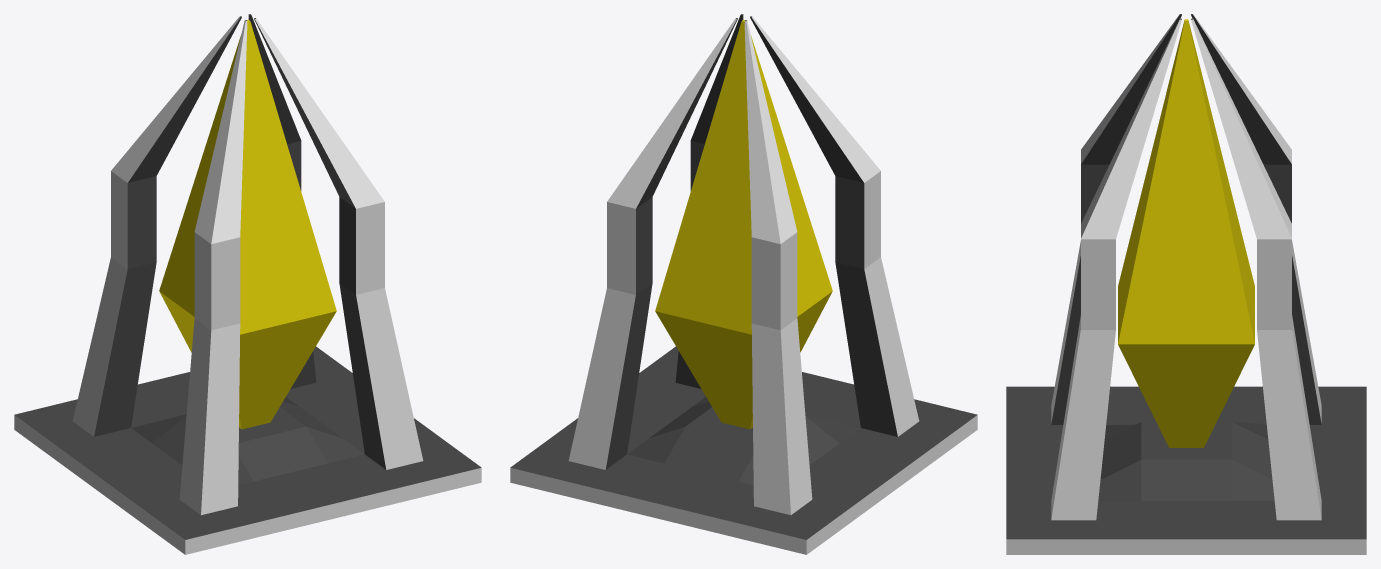
Rendered from yellowLaser.fbx.
3 renders of one model, left to right at view 1: azimuth 30°, elevation 25°; view 2: azimuth 150°, elevation 25°; view 3: azimuth 270°, elevation 25°, orthographic. The views are drawn at different scales.
Parts seen in each view (by area): view 1: Cube.001, Cube; view 2: Cube.001, Cube; view 3: Cube.001, Cube.
Boxes of the visible parts, x1,y1,x2,y2 form: Cube.001: (14, 14, 481, 554); Cube: (159, 20, 336, 429); Cube.001: (510, 14, 977, 554); Cube: (655, 20, 832, 429); Cube.001: (1006, 14, 1366, 554); Cube: (1118, 19, 1254, 447).
Size of the model in its own units: 200 by 283 by 200.
